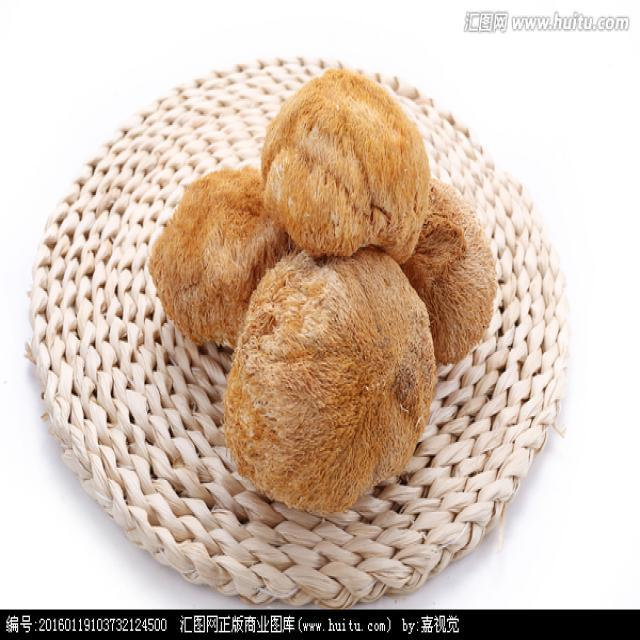Hericium erinaceus: (228, 247, 436, 514), (263, 68, 428, 257), (148, 164, 272, 342), (410, 180, 497, 362)
